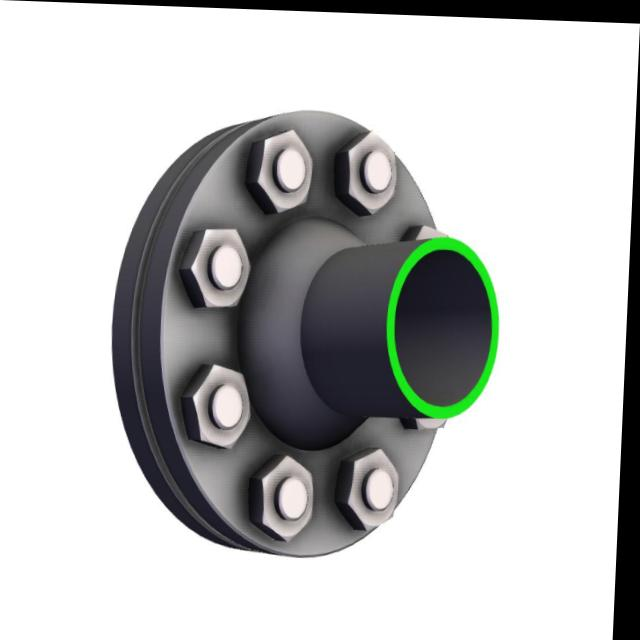Regular bolt: (184, 359, 259, 451), (256, 452, 324, 546), (182, 224, 255, 310), (336, 126, 403, 216), (340, 442, 405, 531), (246, 127, 314, 210)
